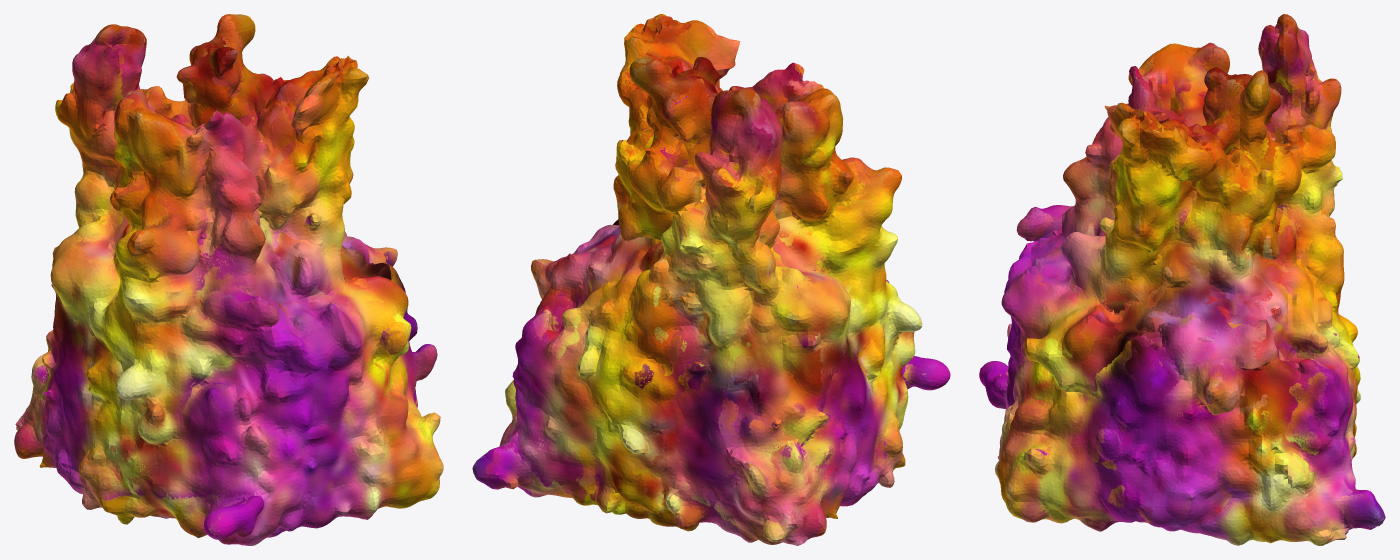
Rendered from fire.glb.
3 views of the same model, side by side, from view 1: azimuth 30°, elevation 25°; view 2: azimuth 150°, elevation 25°; view 3: azimuth 270°, elevation 25° (orthographic).
Bounding box in the file's own units: 1.43 × 1.8 × 1.48.
Materials: 1 (1 with a texture image).
